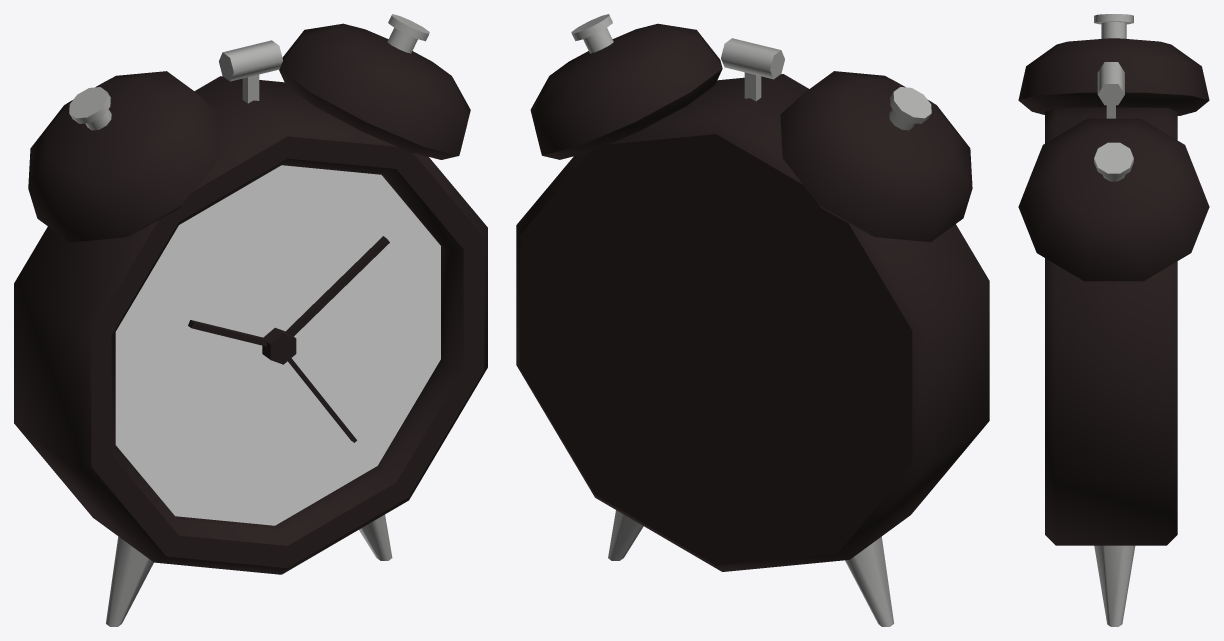
Rendered from 62_prop_alarm clock.FBX.
The picture shows the model from 3 angles, left to right: view 1: azimuth 30°, elevation 25°; view 2: azimuth 150°, elevation 25°; view 3: azimuth 270°, elevation 25°; orthographic projection. The views are drawn at different scales.
Parts seen in each view (by area): view 1: prop_alarm clock; view 2: prop_alarm clock; view 3: prop_alarm clock.
Part boxes in pixels (bbox=[...]): prop_alarm clock: bbox=[14, 14, 487, 626]; prop_alarm clock: bbox=[516, 14, 989, 626]; prop_alarm clock: bbox=[1018, 14, 1209, 626].
Bounding box in the file's own units: 9.62 × 12.1 × 4.27.
